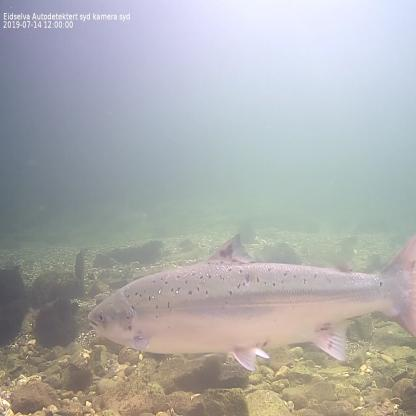salmon: (84, 222, 416, 375)
